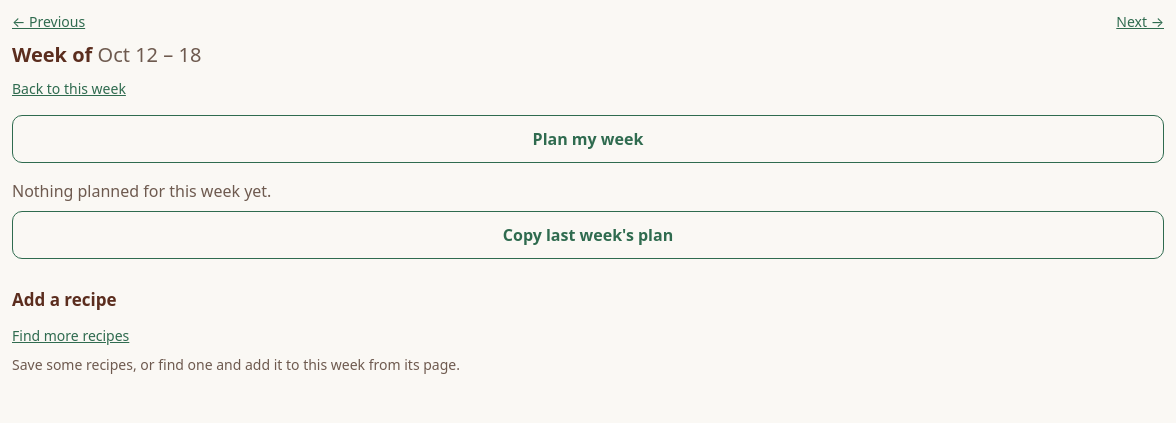
Test: PlanPage › copies last week into an empty week
Expected: the text "Nothing planned for this week yet." is shown, [12, 180, 271, 202]
Click the button "Copy last week's plan": (588, 235) [12, 211, 1164, 259]
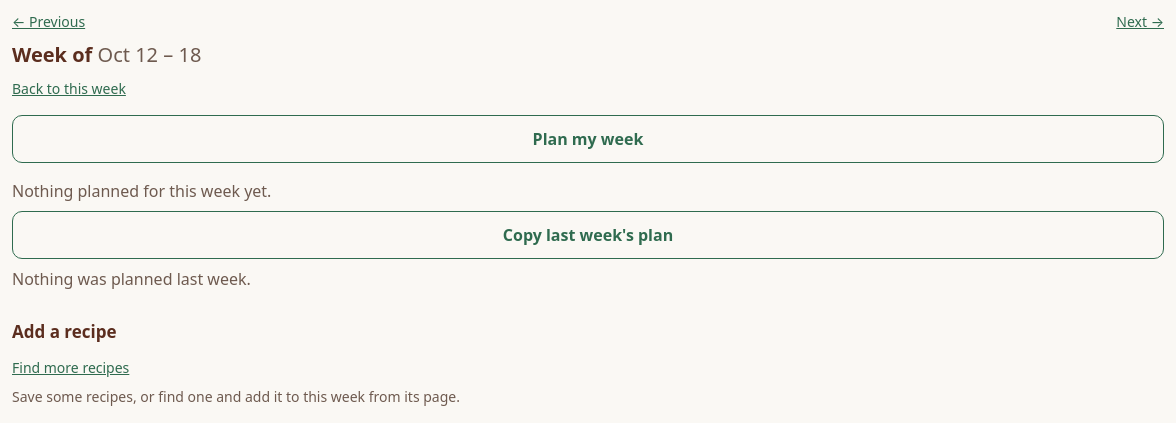
Expected: the text "Nothing was planned last week." is shown, [12, 268, 251, 290]
